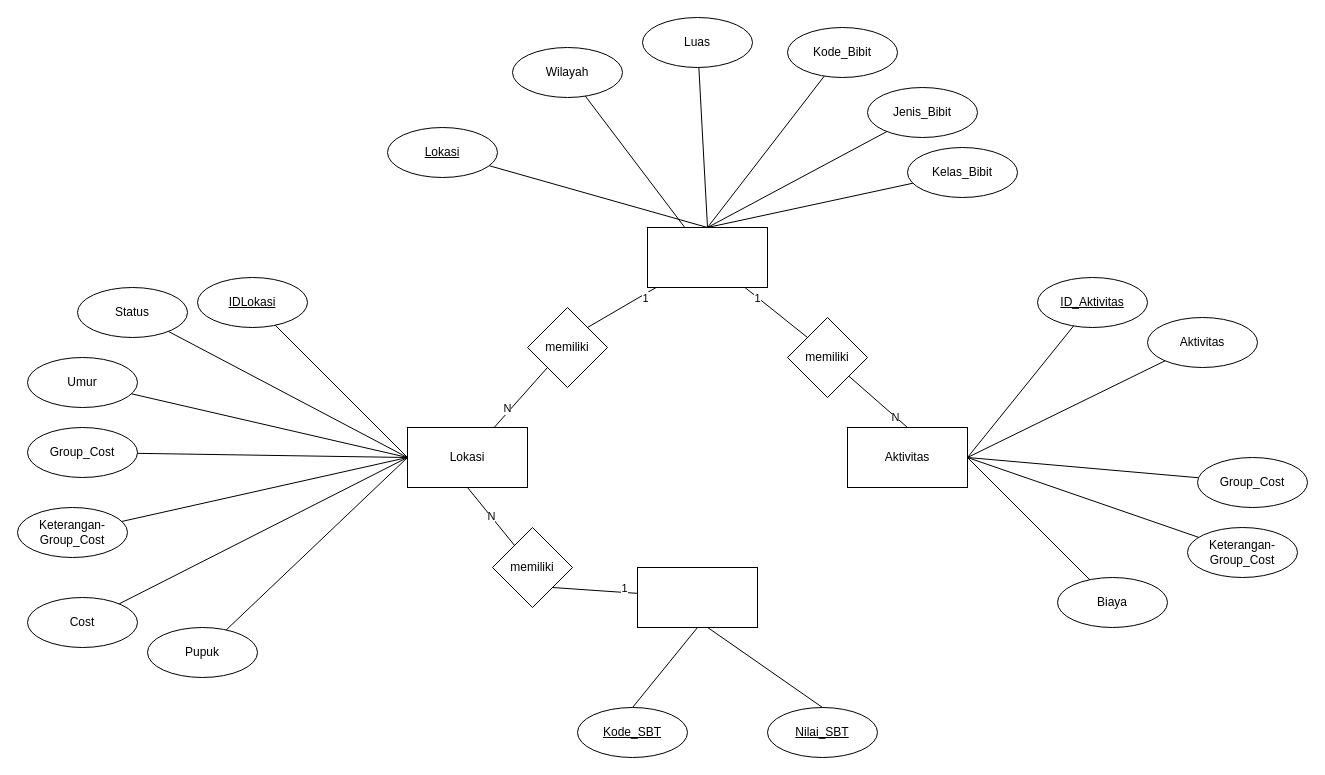
Some shapes in this 1325 by 775 pixel diagram are drawn without their labels. Here are the shapes that lost their labels. From the top down, the centre of each, then its label:
At point 707,257: "Mastersheet".
At point 697,597: "SBT".
